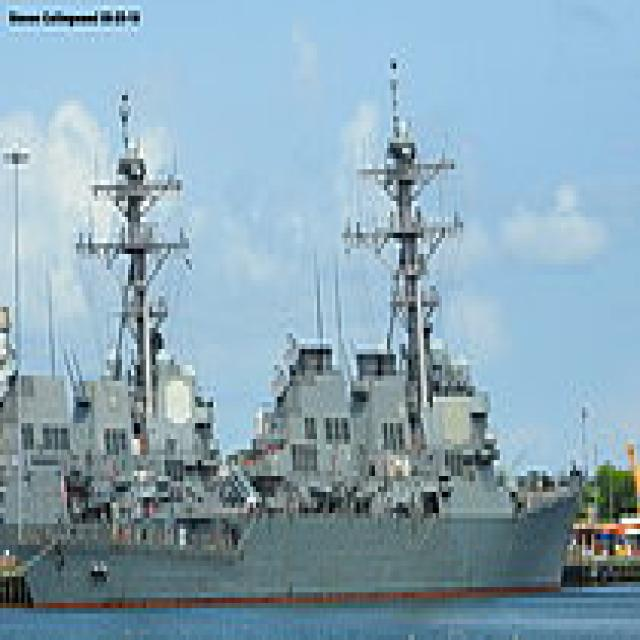Warship: (222, 42, 594, 587), (0, 79, 262, 598)
